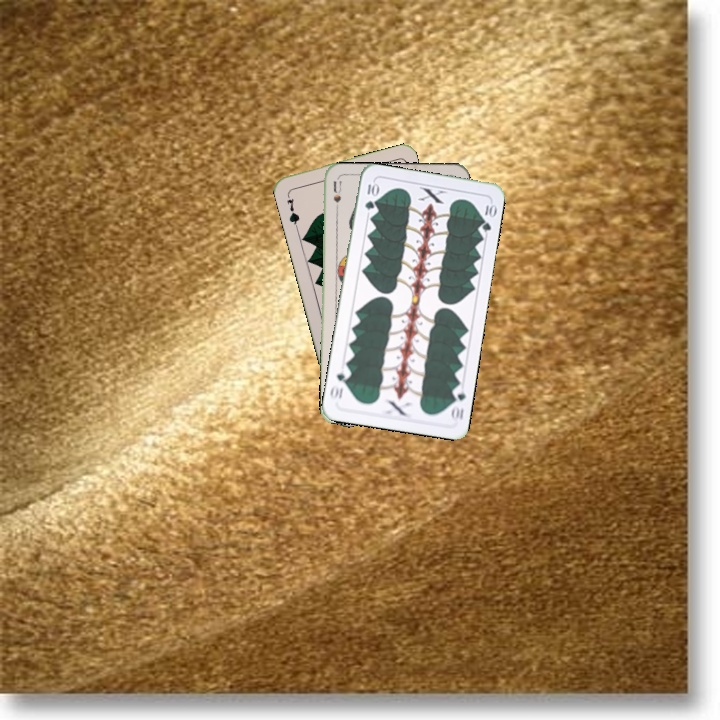G10: (447, 382, 468, 424), (361, 178, 380, 212)
G7: (283, 189, 302, 229)
SU: (329, 178, 344, 218)
